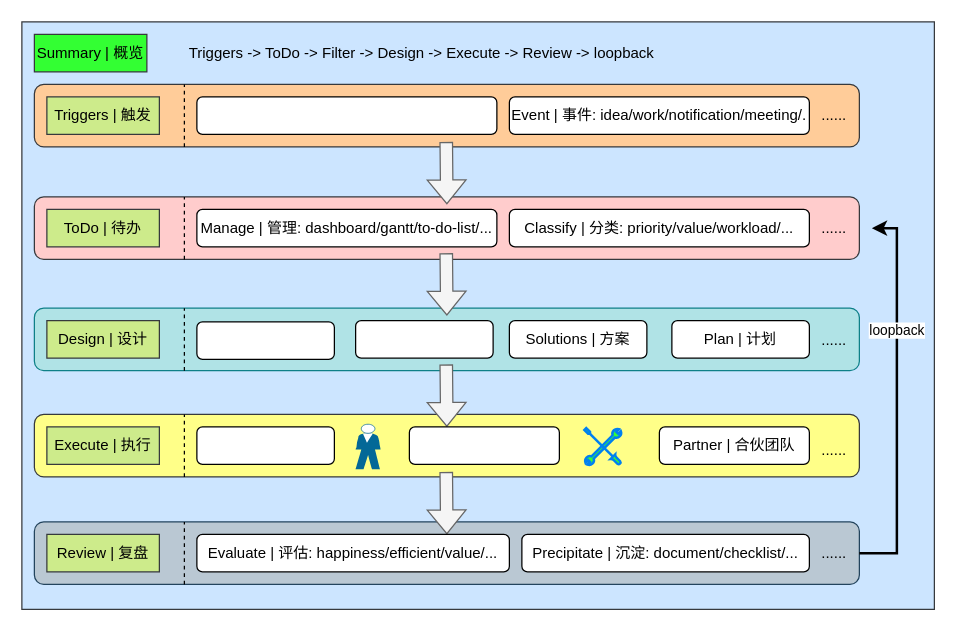
Image size: 956x631. Some labels were removed from this diagram. Here are the shapes that lost their labels. From the top down, the centre of each, then its label:
the point at 346,115: Time | 时间: daily/weekly/monthly/yearly
the point at 265,340: Analysis | 分析
the point at 423,338: Filter | 过滤
the point at 265,445: Me | 自己
the point at 483,445: Automated | 自动化
